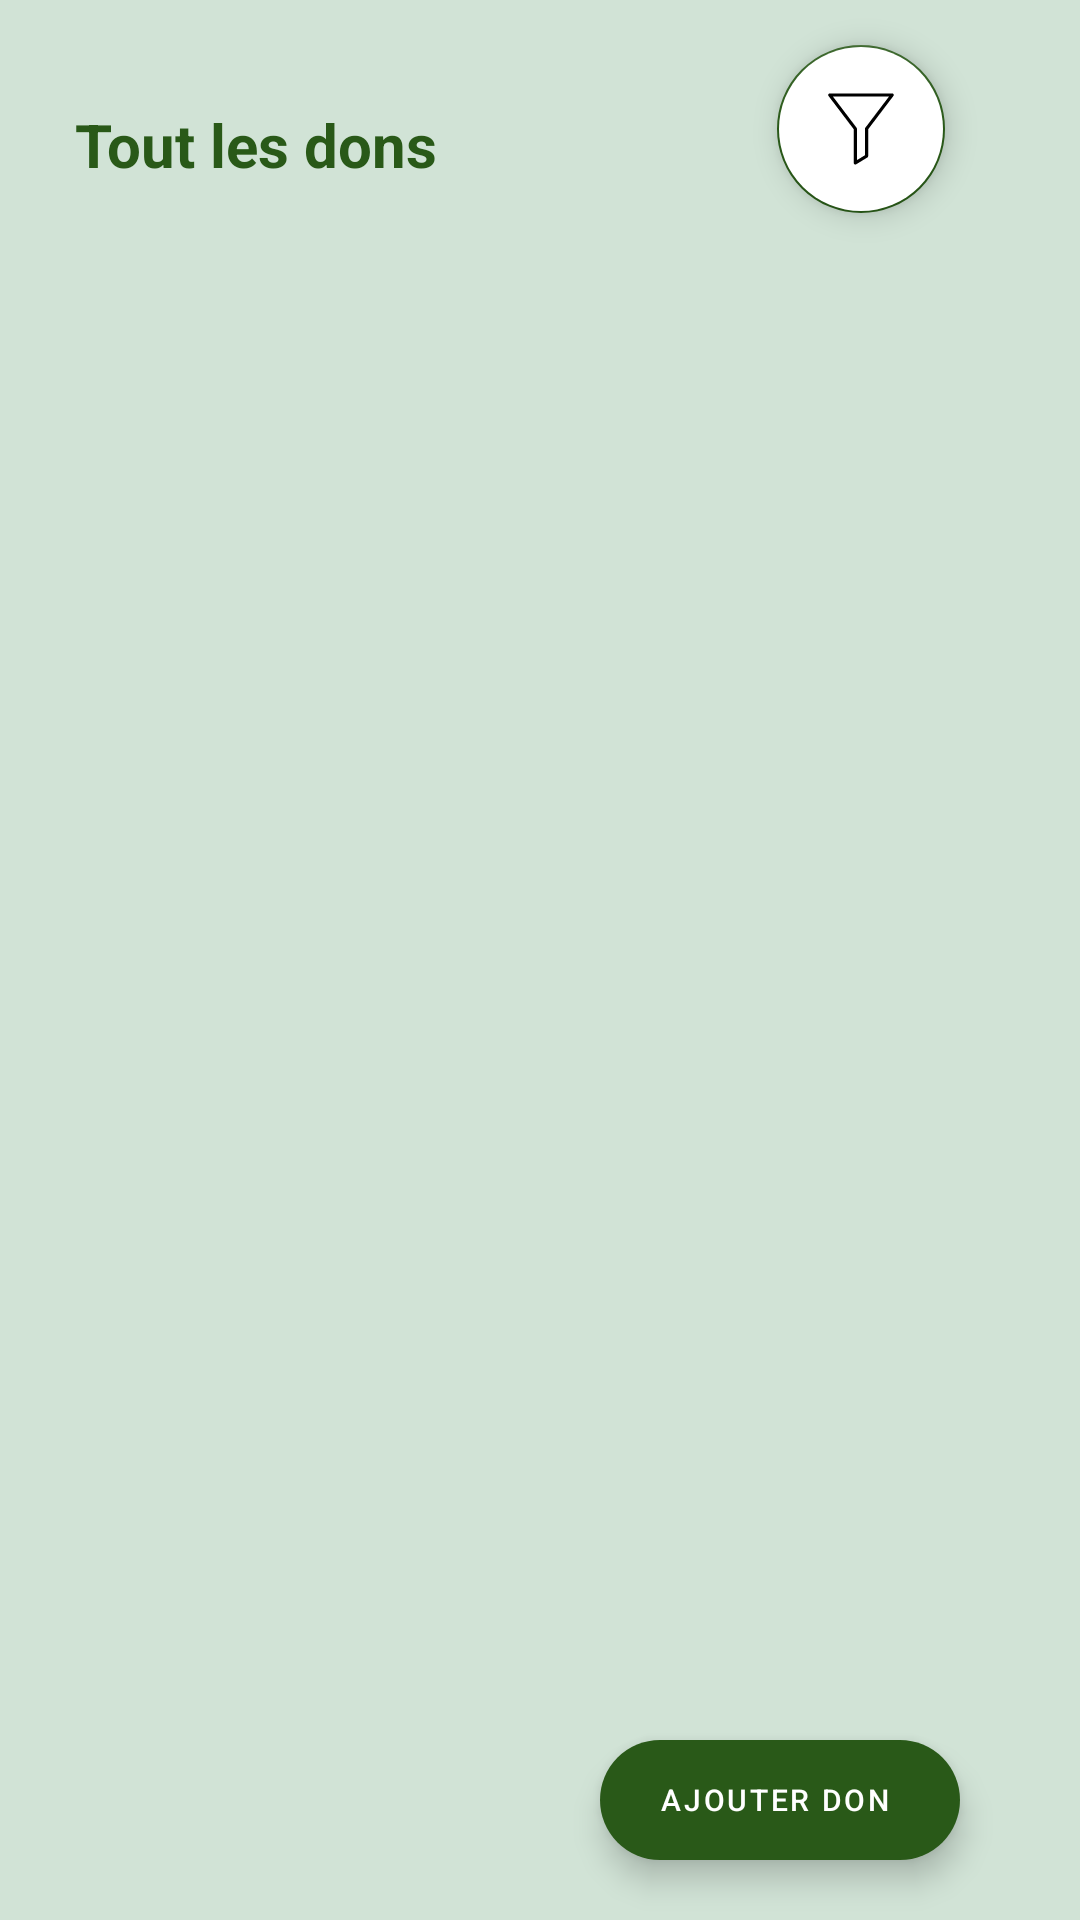

Screen size 1080 × 1920. Icon name, then its box in pixels as {"left": x1, "top": y1, "right": x2, "bottom": y2}:
filter: {"left": 777, "top": 45, "right": 945, "bottom": 213}
